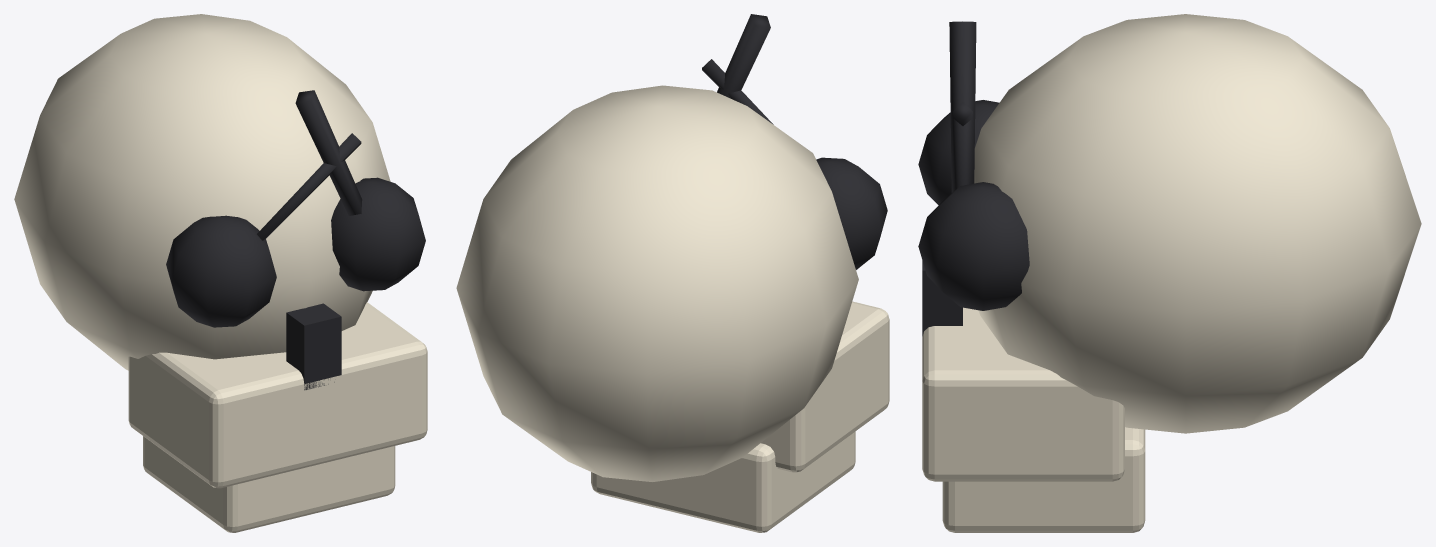
Rendered from skull_cracked.glb.
3 renders of one model, left to right at view 1: azimuth 30°, elevation 25°; view 2: azimuth 150°, elevation 25°; view 3: azimuth 270°, elevation 25°, orthographic. The views are drawn at different scales.
Visible parts, largest first — view 1: GD_skull_cracked__m0, GD_skull_cracked__m1; view 2: GD_skull_cracked__m0, GD_skull_cracked__m1; view 3: GD_skull_cracked__m0, GD_skull_cracked__m1.
Boxes of the visible parts, x1=… form: GD_skull_cracked__m0: x1=14, y1=14, x2=427, y2=532; GD_skull_cracked__m1: x1=166, y1=90, x2=425, y2=390; GD_skull_cracked__m0: x1=456, y1=85, x2=889, y2=532; GD_skull_cracked__m1: x1=702, y1=14, x2=887, y2=269; GD_skull_cracked__m0: x1=922, y1=14, x2=1421, y2=532; GD_skull_cracked__m1: x1=918, y1=21, x2=1029, y2=336.
Bounding box in the file's own units: 0.1248 × 0.1546 × 0.1491.
